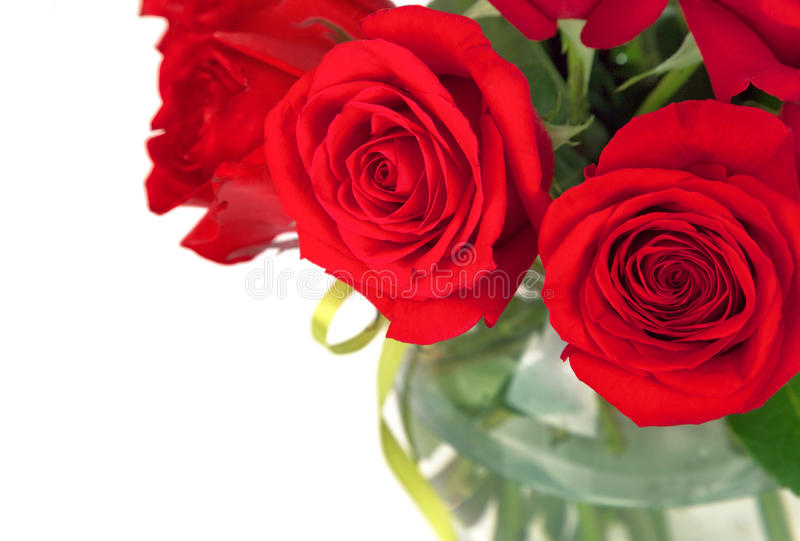RedRose: (268, 4, 558, 343), (519, 96, 800, 435), (100, 0, 404, 270)
